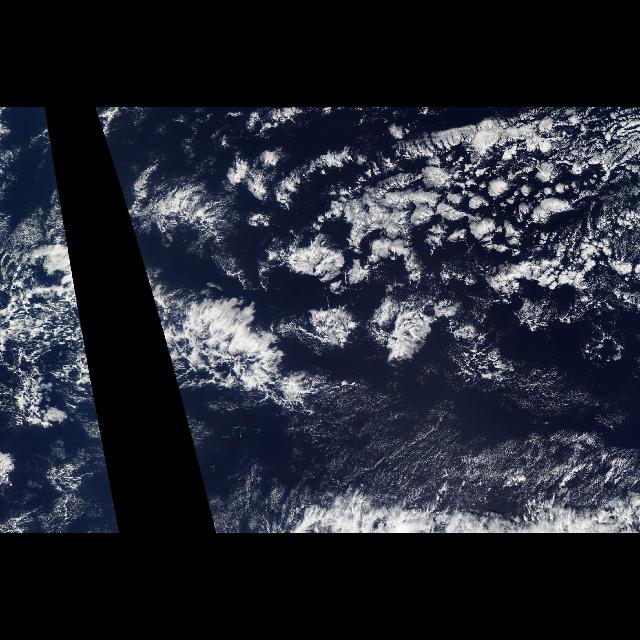Flower: (199, 121, 626, 399)
Gravel: (3, 242, 108, 508)
Sugar: (272, 143, 502, 383), (264, 400, 622, 498)
